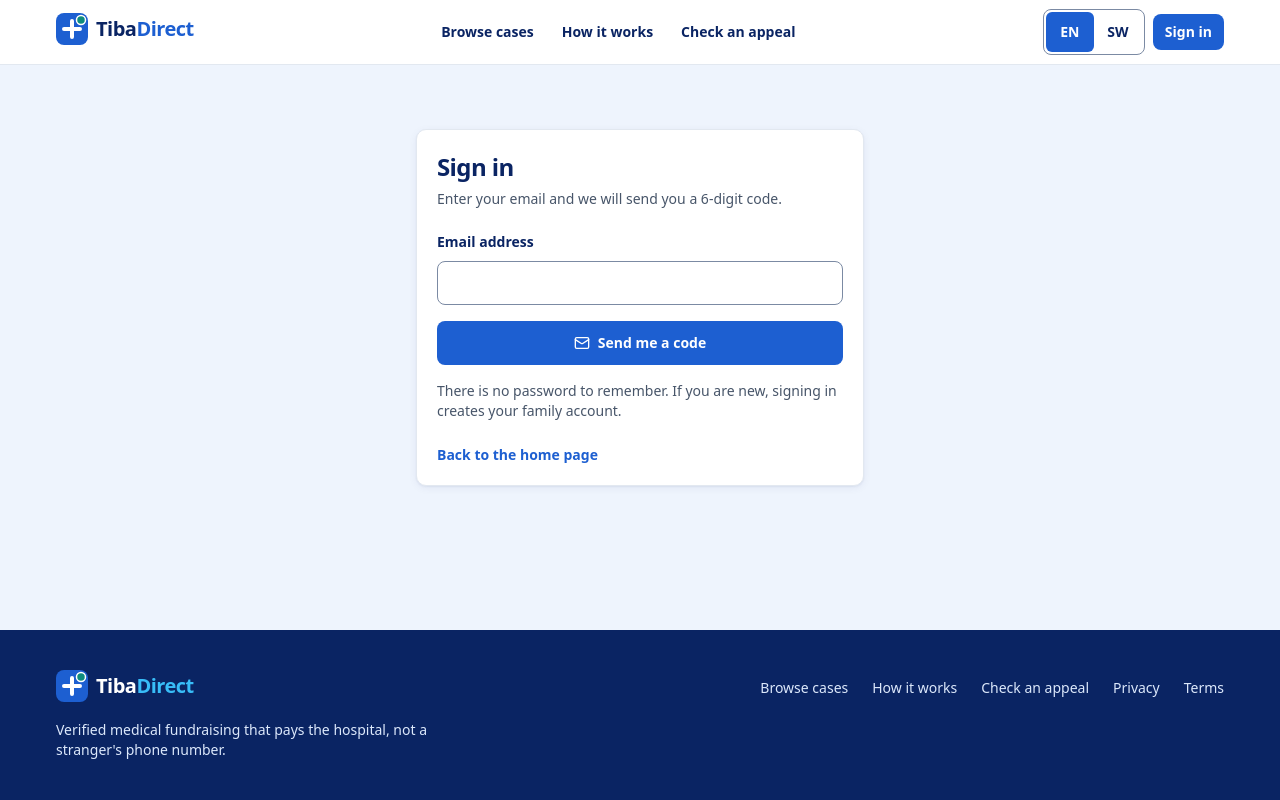
email code sign-in › says how long to wait when the sign-in is rate limited
Type "family1@example.test" into the field labelled "Email address" at [640, 283], box 437,261 -> 843,305
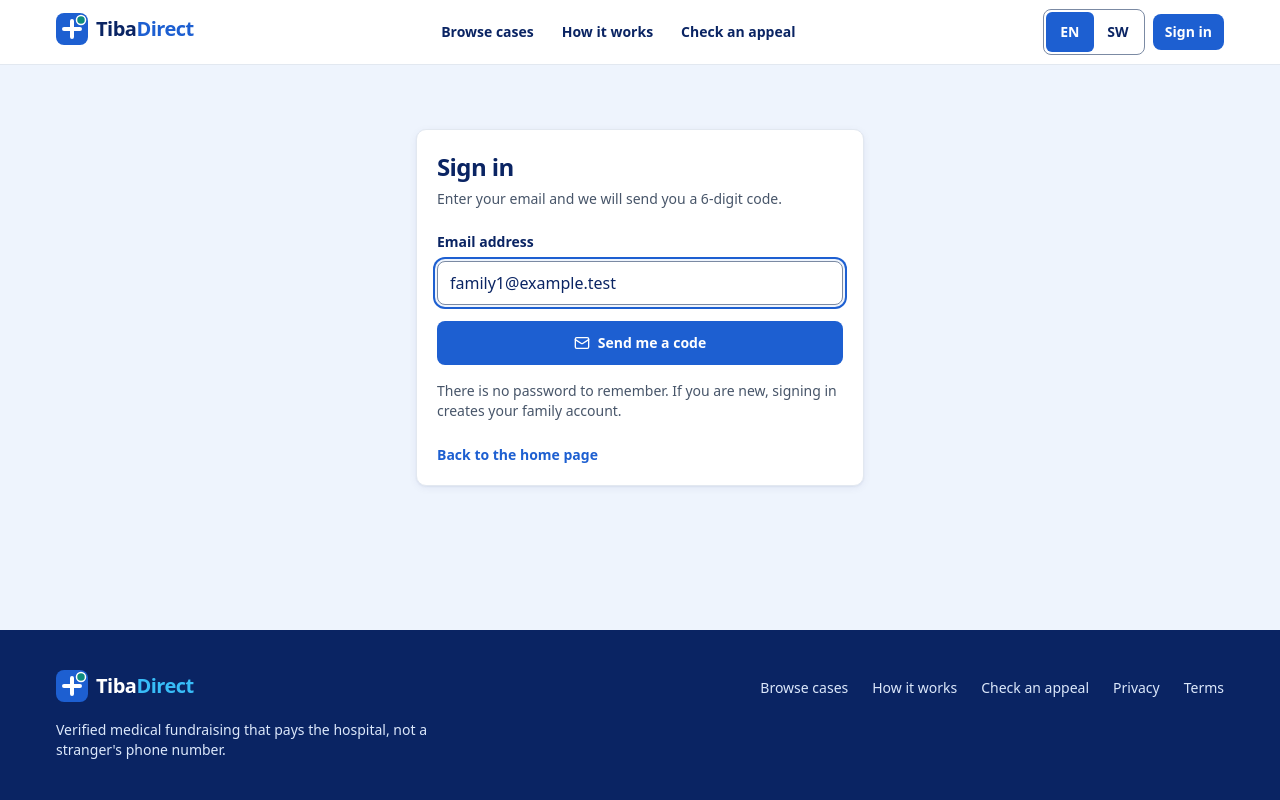
Click the button "Send me a code" at [640, 343], box 437,321 -> 843,365
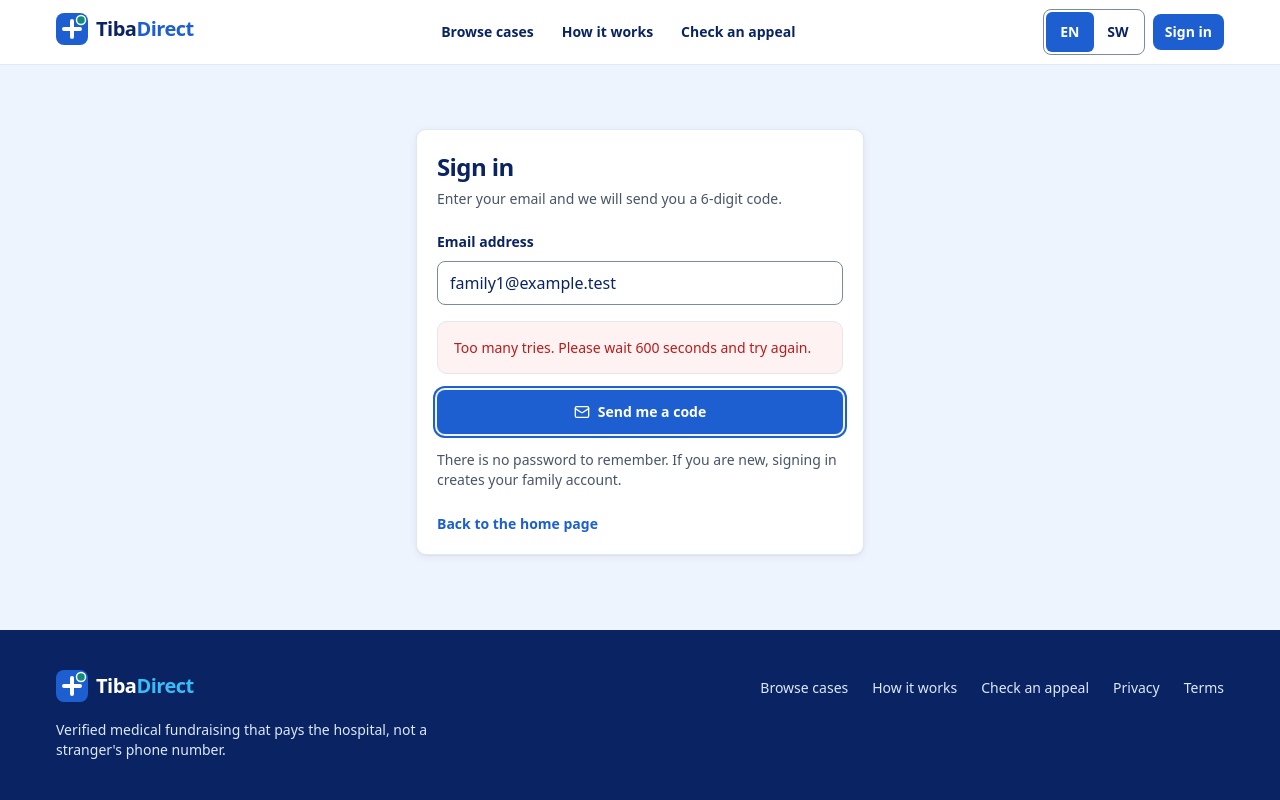
Result: the text "Too many tries. Please wait 600 seconds and try again." is shown at 454,338 -> 811,357
